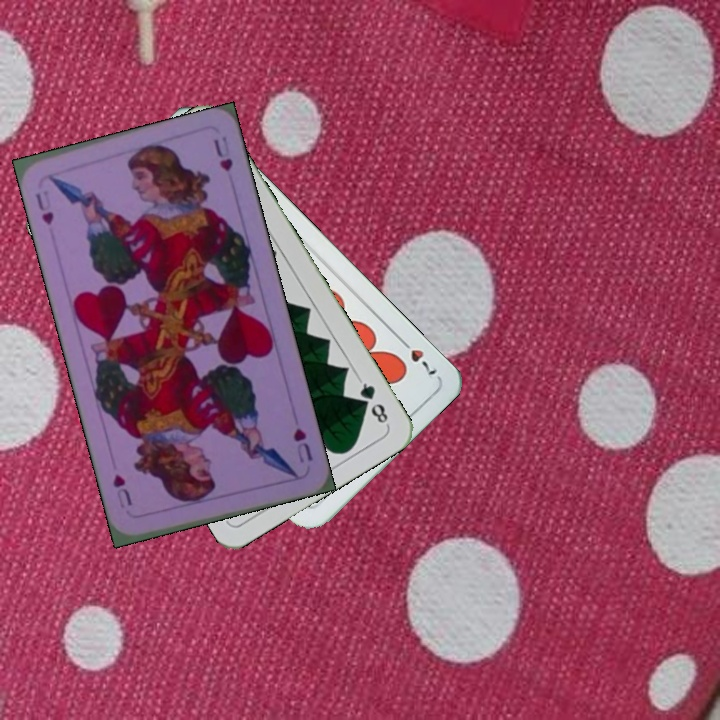G8: (354, 375, 391, 428)
H7: (394, 333, 440, 378)
HU: (289, 424, 316, 466), (31, 186, 56, 228)
